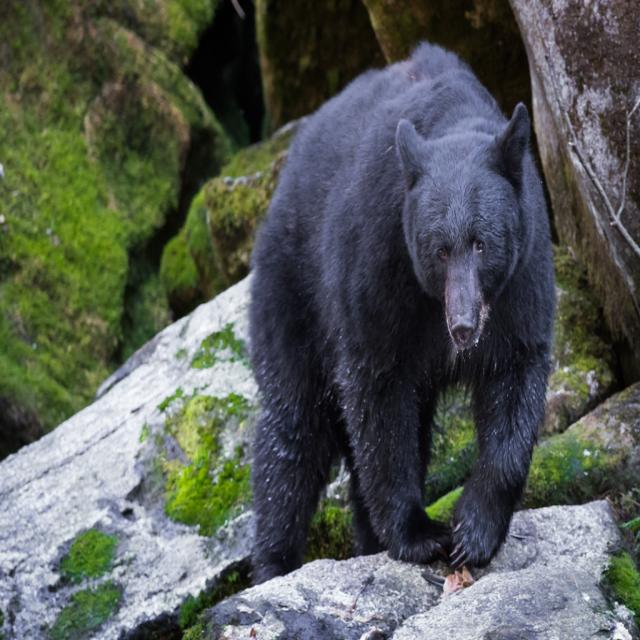Buffalo: (251, 44, 557, 586)
